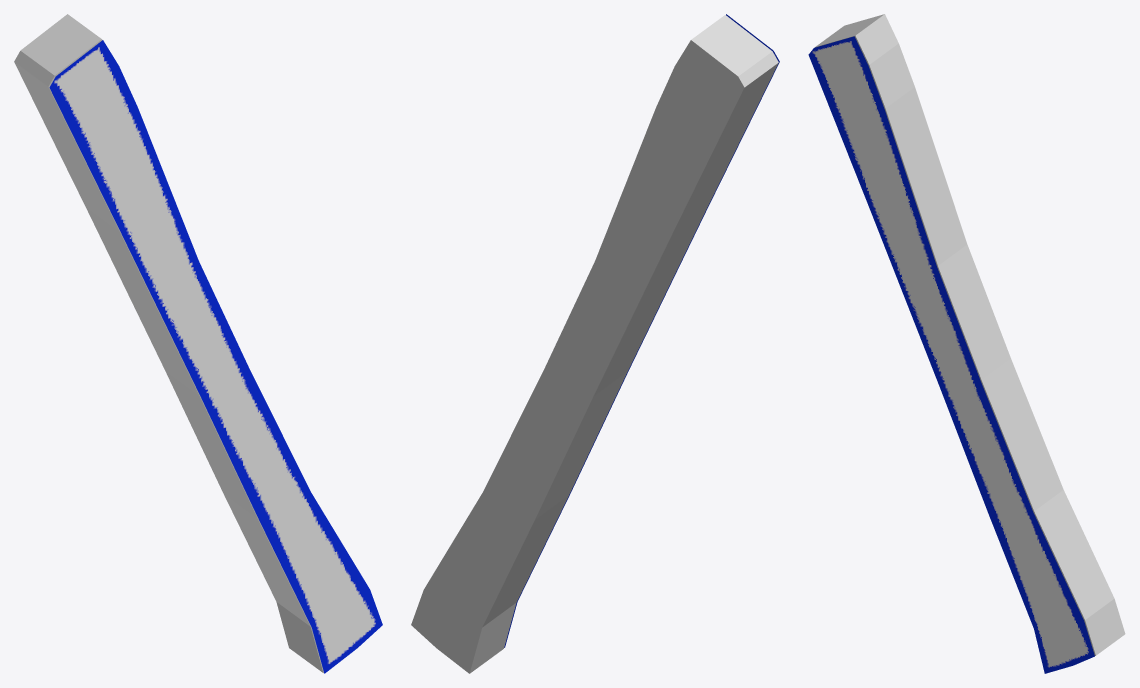
3 views of the same model, side by side, from view 1: azimuth 30°, elevation 25°; view 2: azimuth 150°, elevation 25°; view 3: azimuth 330°, elevation 25° (orthographic). The views are drawn at different scales.
Visible parts, largest first — view 1: In_2_1, In_2_0; view 2: In_2_0, In_2_1; view 3: In_2_1, In_2_0.
Part boxes in pixels (left/top/right/bottom): In_2_1: left=49, top=40, right=382, bottom=673; In_2_0: left=14, top=14, right=323, bottom=672; In_2_0: left=411, top=15, right=778, bottom=673; In_2_1: left=504, top=14, right=779, bottom=647; In_2_1: left=808, top=36, right=1094, bottom=673; In_2_0: left=815, top=14, right=1125, bottom=655.
Size of the model in its own units: 2.8 by 5.52 by 0.515.
2 materials, 1 textured.
